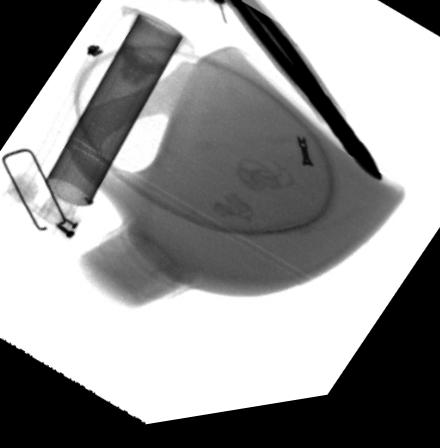Pliers: (217, 0, 383, 195)
